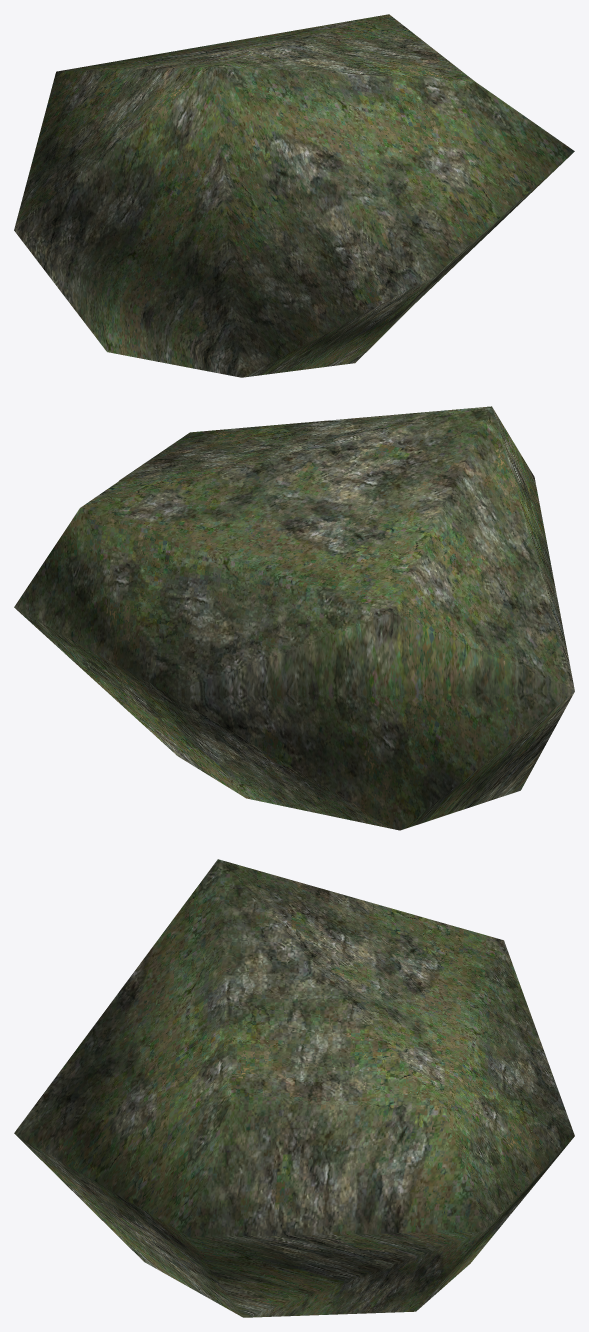
The model's file is mtns_rock_moss_a8_l2.fbx.
The picture shows the model from 3 angles, top to bottom: view 1: azimuth 30°, elevation 25°; view 2: azimuth 150°, elevation 25°; view 3: azimuth 270°, elevation 25°; orthographic projection. The views are drawn at different scales.
Parts seen in each view (by area): view 1: mesh_node; view 2: mesh_node; view 3: mesh_node.
Part boxes in pixels (x1,y1,x2,y2): mesh_node: (14, 14, 574, 377); mesh_node: (14, 406, 574, 830); mesh_node: (14, 859, 574, 1317).
Bounding box in the file's own units: 1.93 × 1.14 × 1.69.
